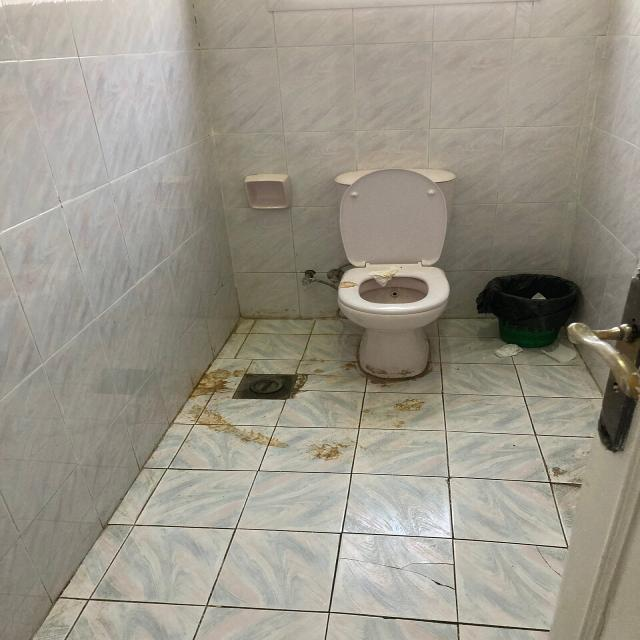dirty_floor: (2, 1, 635, 637), (31, 313, 604, 638), (1, 1, 240, 637)
